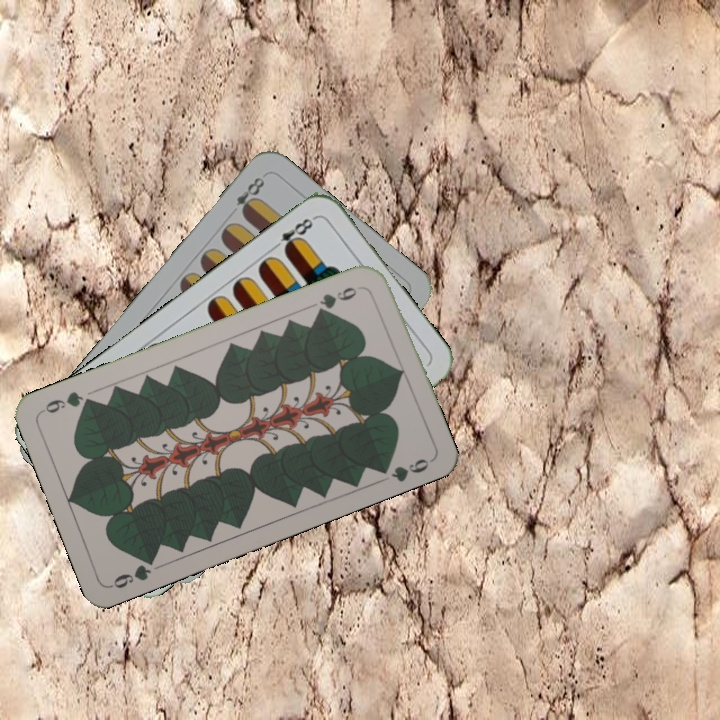E8: (267, 213, 319, 256), (232, 173, 267, 219)
G9: (107, 551, 159, 591), (312, 282, 366, 317)
